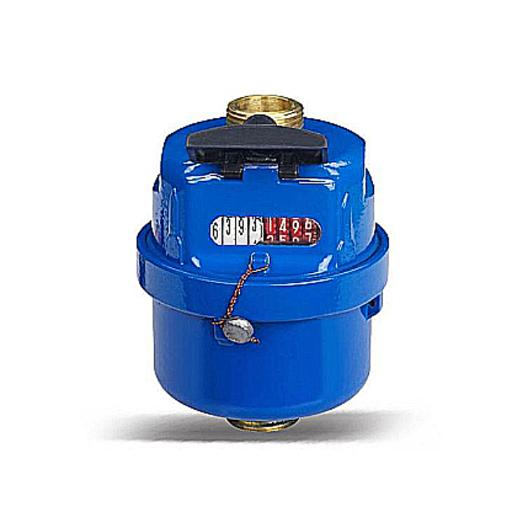1: (265, 218, 276, 244)
3: (250, 219, 263, 244), (224, 218, 235, 245)
4: (279, 219, 290, 244)
6: (304, 219, 322, 244), (211, 217, 222, 244)
9: (237, 217, 248, 243), (291, 218, 302, 243)
border_water_meter_number: (210, 217, 323, 246)
